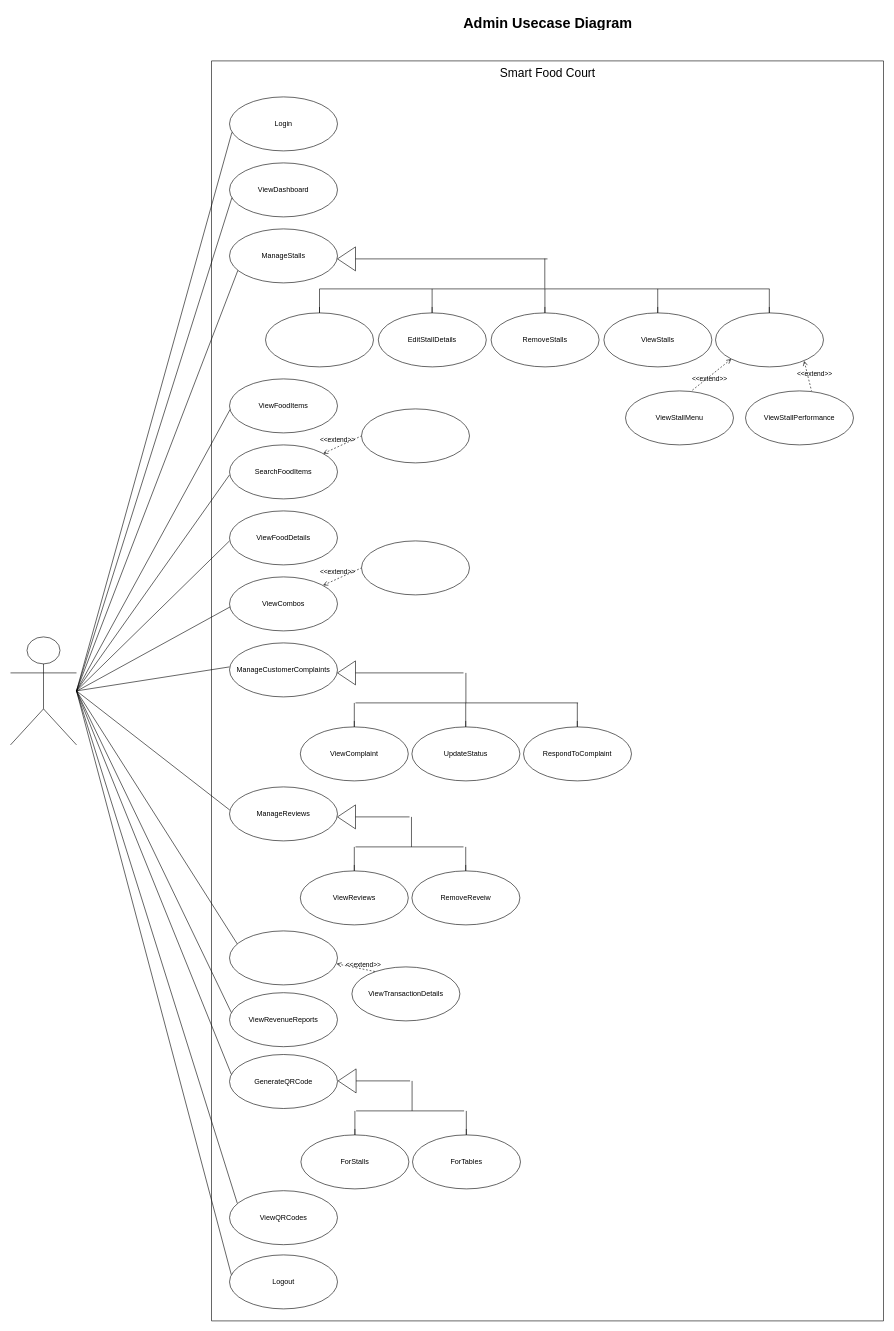
Image size: 894x1331. Some labels were removed from this diagram. Here are the shapes that lost their labels. From the top down, the centre of each, then its label:
the point at 319,339: AddStall
the point at 769,339: ViewStallDetails
the point at 415,435: FilterFoodItems
the point at 415,567: ViewComboDetails
the point at 43,690: Admin
the point at 283,957: ViewAllTransactions
